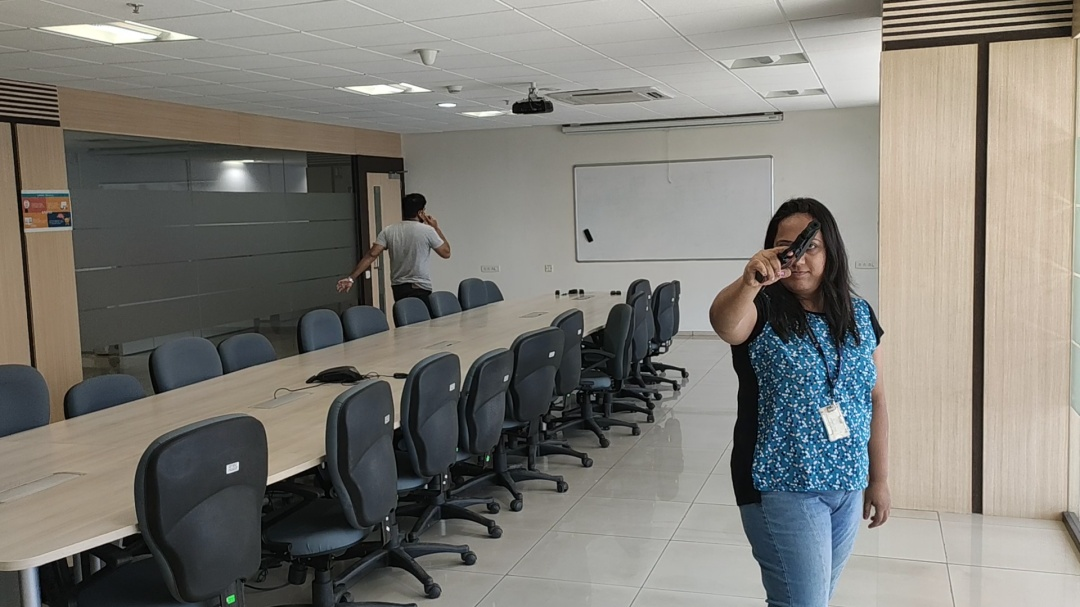gun: (779, 214, 823, 272)
